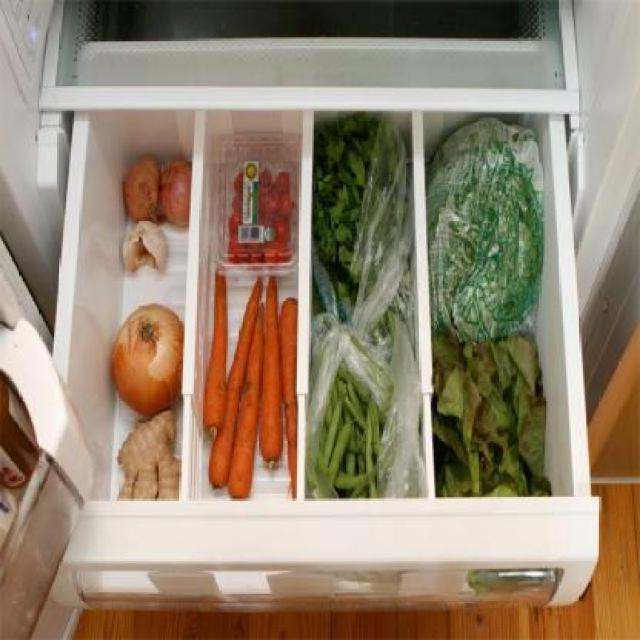carrot: (228, 304, 266, 506), (203, 265, 231, 448), (263, 267, 284, 473), (282, 286, 302, 500)
